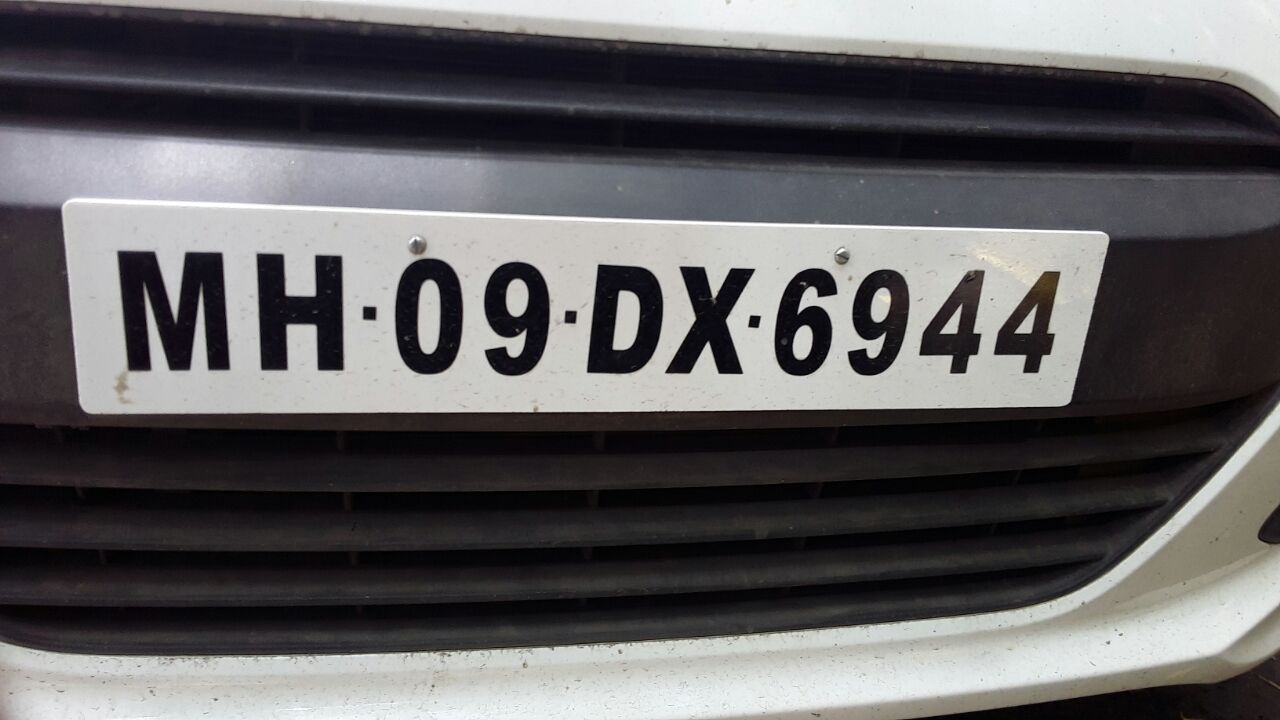licenseplate: (50, 184, 1117, 428)
